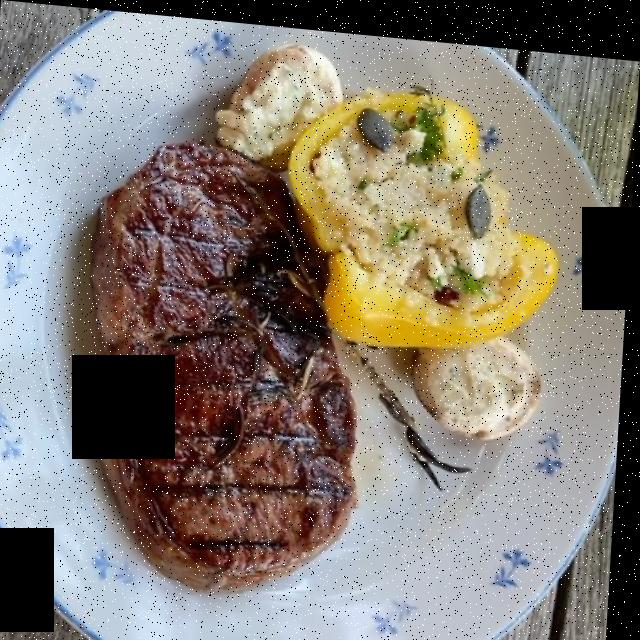beef-filet: (96, 140, 357, 582)
bell-pepper-red-stewed-without-addition-of-fat-without-addition-of-salt: (289, 78, 563, 347)
couscous: (313, 114, 512, 302)
fresh-cheese: (244, 53, 532, 425)
mushroom-average-stewed-without-addition-of-fat-without-addition-of-salt: (215, 36, 552, 449)
